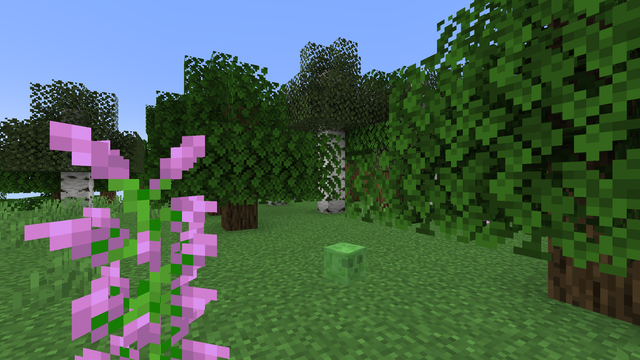slimes: (323, 240, 366, 285)
